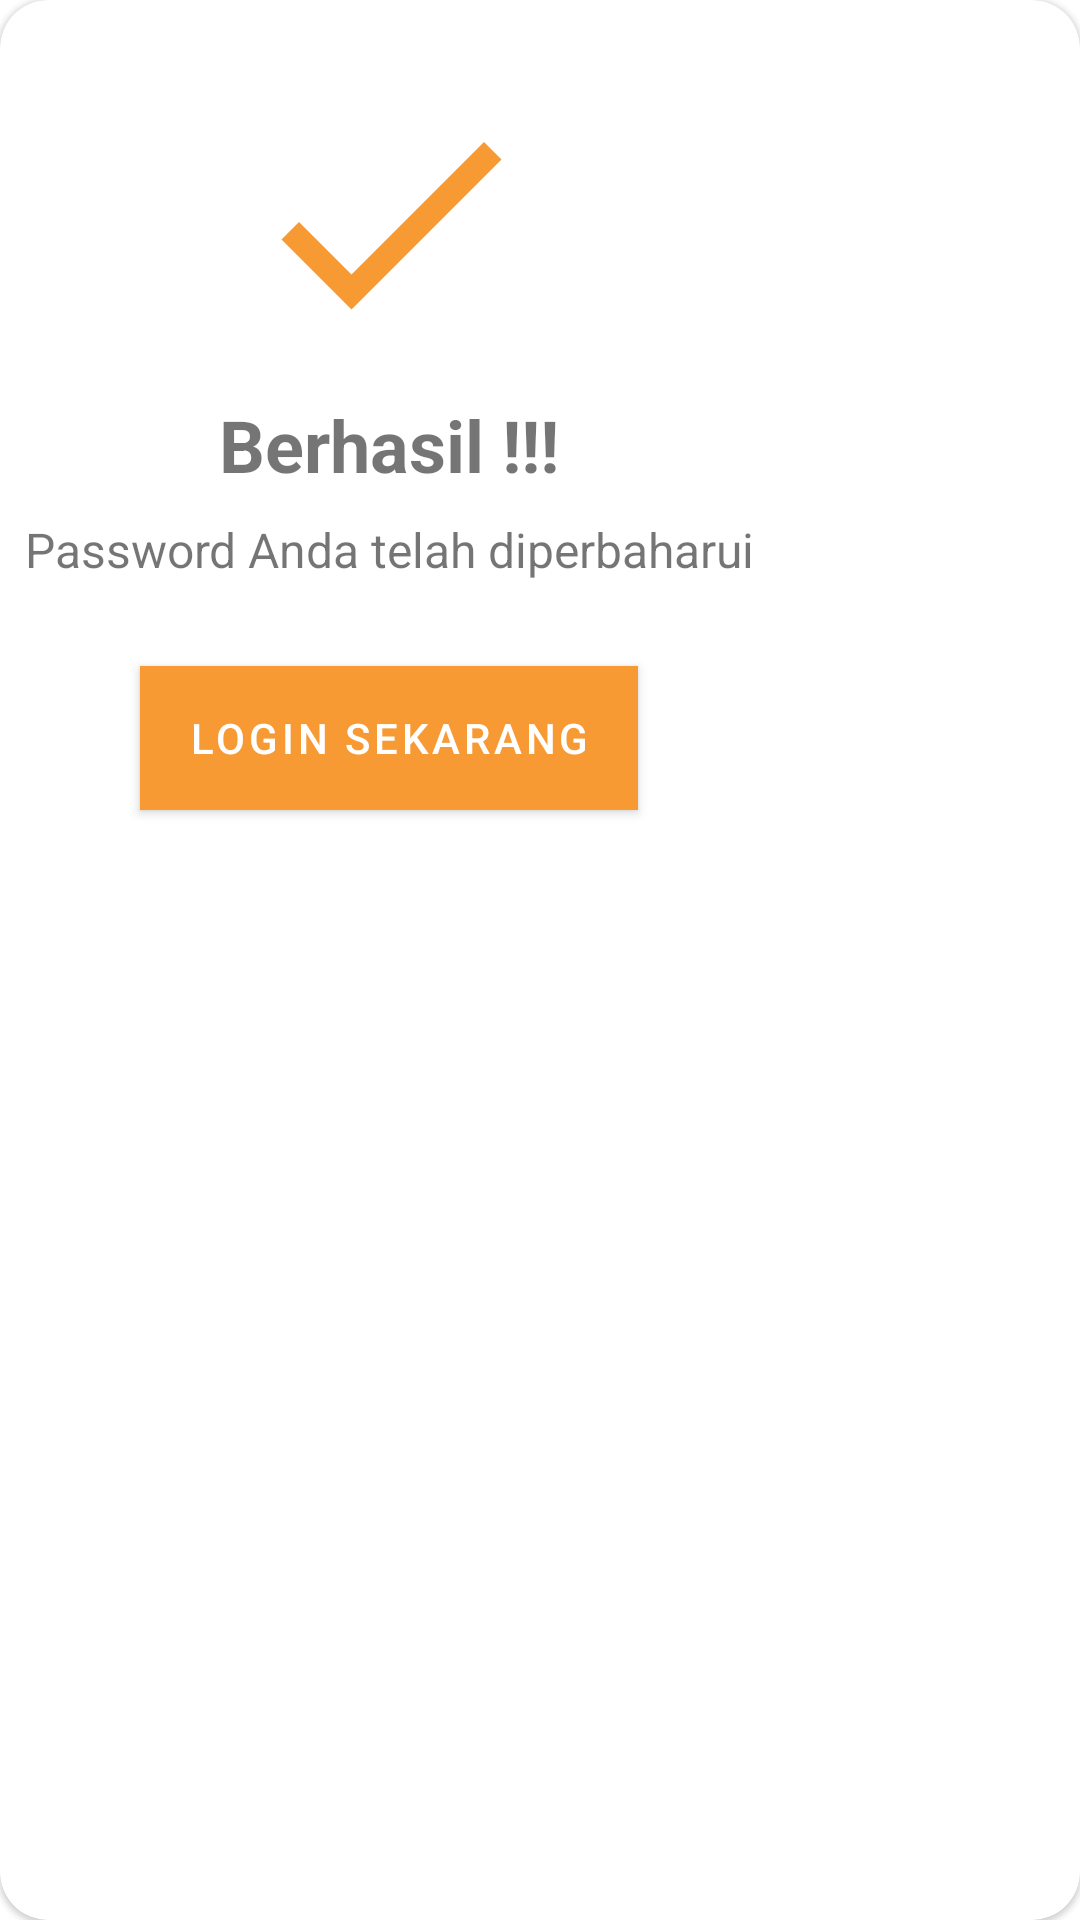

Named icons in this screenshot (1080w x 1920h) and their bounding boxes, BBox(x1, y1, x2, y2):
done: BBox(281, 142, 502, 310)
